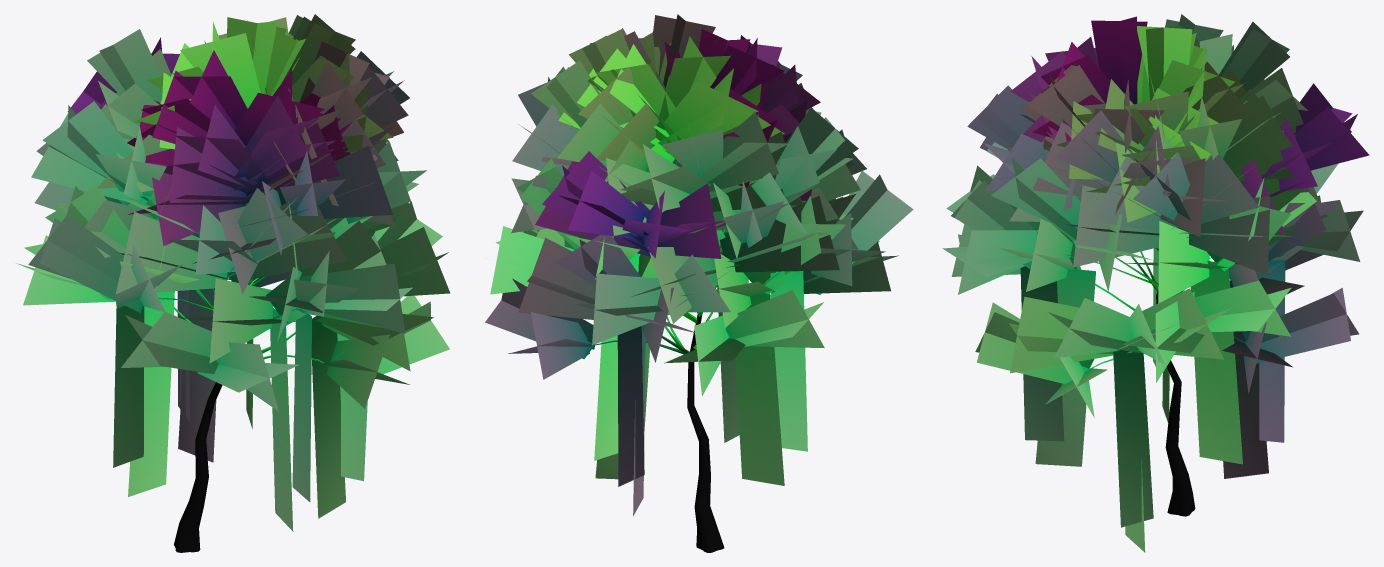
Rendered from Tree_10_7.fbx.
3 views of the same model, side by side, from view 1: azimuth 30°, elevation 25°; view 2: azimuth 150°, elevation 25°; view 3: azimuth 270°, elevation 25° (orthographic). The views are drawn at different scales.
Visible parts, largest first — view 1: _7; view 2: _7; view 3: _7.
Boxes of the visible parts, box(x1,y1,x2,y2) form: _7: box(16, 14, 449, 552); _7: box(485, 14, 913, 552); _7: box(942, 14, 1369, 552).
Bounding box in the file's own units: 1280 × 1609 × 1245.
